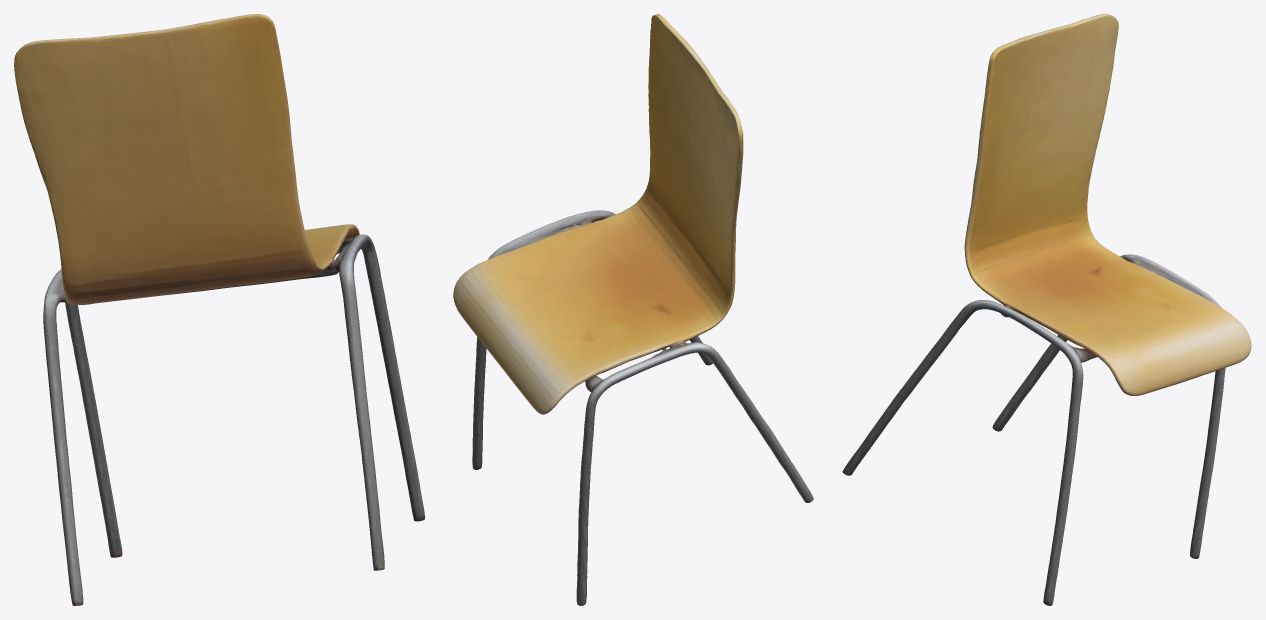
Rendered from light-colored_wooden_chair_at_middle_row_right_table_(right)_000.glb.
3 views of the same model, side by side, from view 1: azimuth 30°, elevation 25°; view 2: azimuth 150°, elevation 25°; view 3: azimuth 270°, elevation 25° (orthographic). The views are drawn at different scales.
Visible parts, largest first — view 1: light-colored_wooden_chair_at_middle_row_right_table_(right); view 2: light-colored_wooden_chair_at_middle_row_right_table_(right); view 3: light-colored_wooden_chair_at_middle_row_right_table_(right).
Part boxes in pixels (x1,y1,x2,y2): light-colored_wooden_chair_at_middle_row_right_table_(right): (14,14,424,605); light-colored_wooden_chair_at_middle_row_right_table_(right): (453,14,813,605); light-colored_wooden_chair_at_middle_row_right_table_(right): (842,14,1251,605).
Bounding box in the file's own units: 0.4152 × 0.6482 × 0.4632.
1 material, 1 textured.
